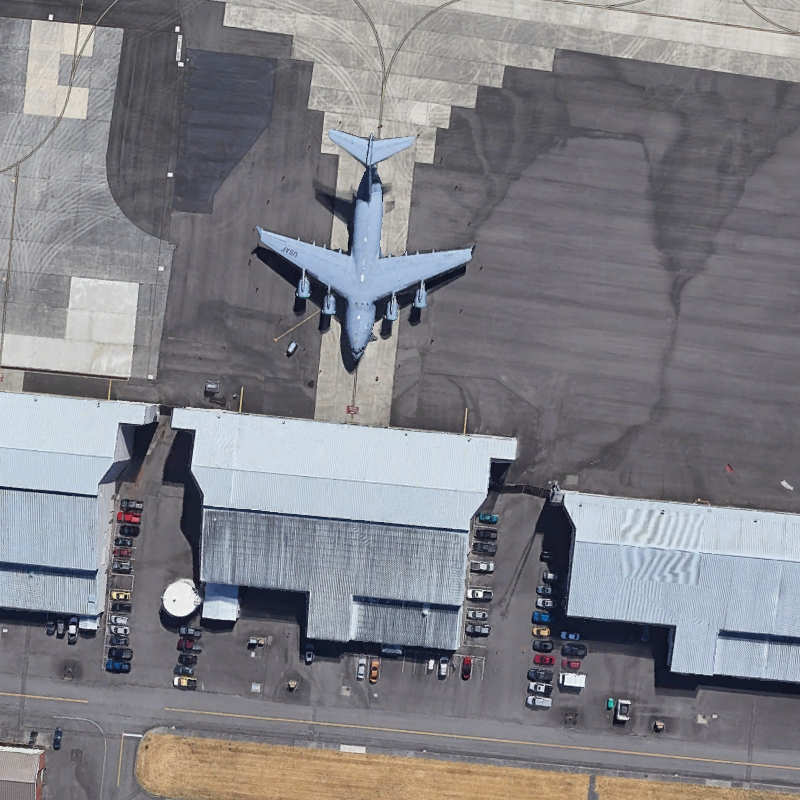A3: (247, 119, 479, 370)
